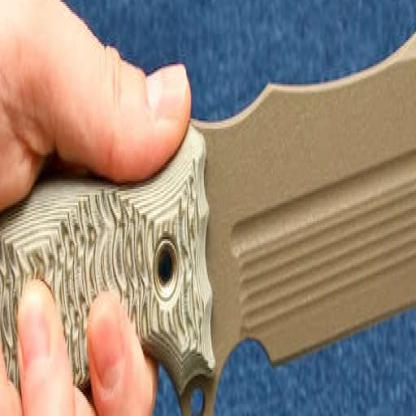knife: (0, 32, 415, 414)
